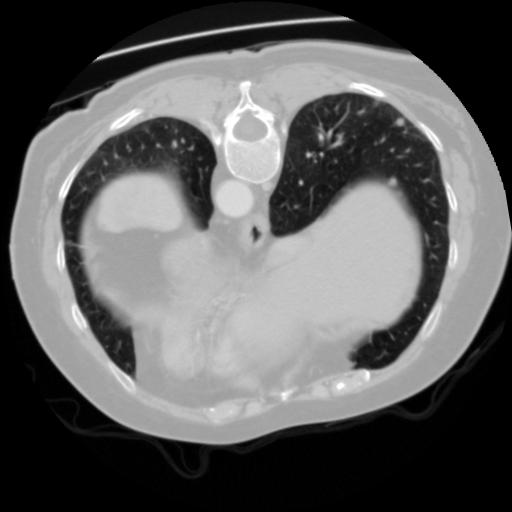nodule: (394, 115, 409, 130)
